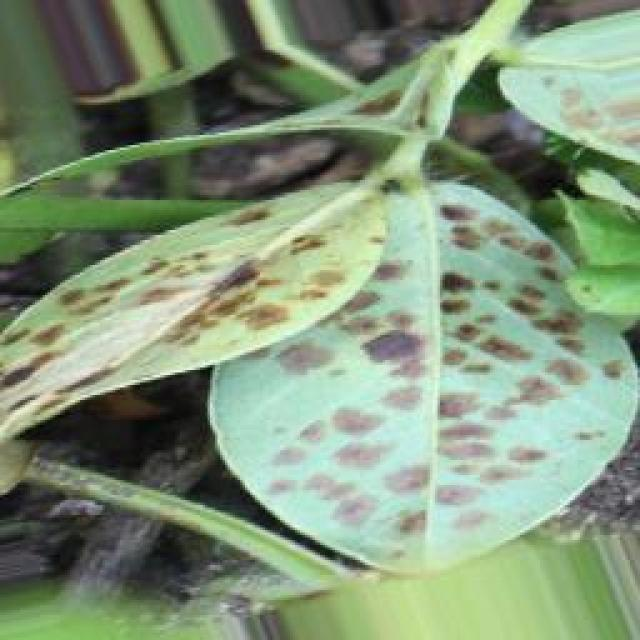Whitefly: (0, 166, 640, 580)
